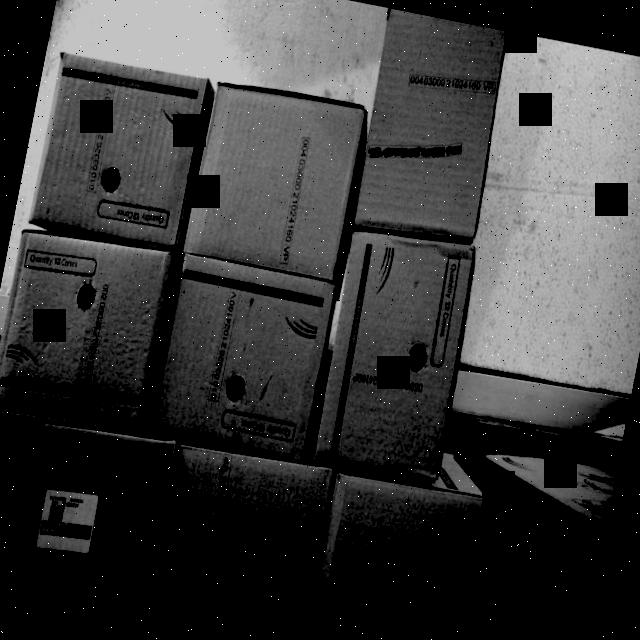box: (316, 225, 482, 484), (350, 8, 516, 238), (152, 251, 338, 456), (148, 439, 336, 640), (185, 80, 369, 284), (0, 224, 177, 426), (31, 48, 212, 242), (0, 412, 175, 611), (309, 467, 495, 640)
